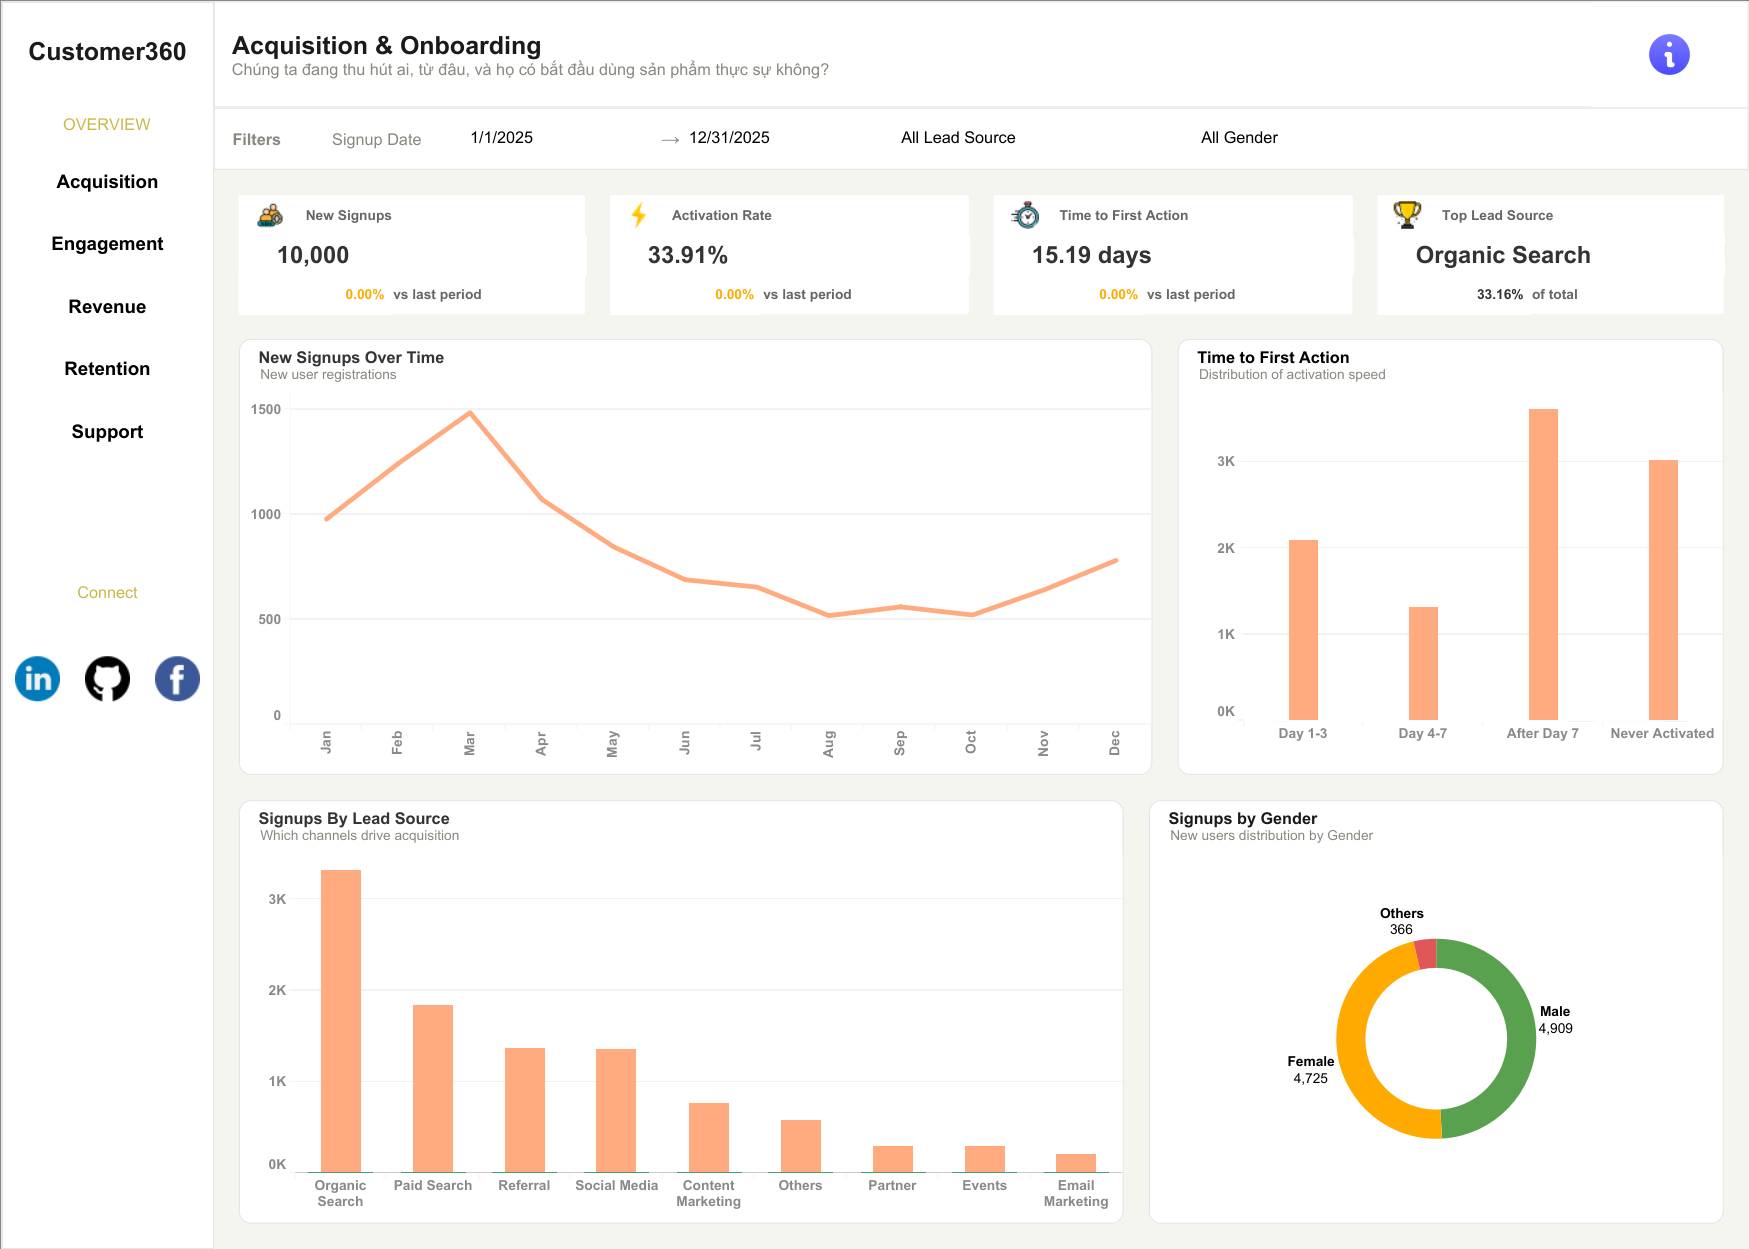

The page's visual inventory and layout, read from the dashboard file:
{"tool":"tableau","page":{"name":"DB acquisition","canvas":[1400,1000],"ordinal":0},"visuals":[{"type":"text","box":[2,2,168,77]},{"type":"text","box":[172,2,1101,83]},{"type":"worksheet","title":"acquisition info","mark":"Shape","box":[1273,2,125,83]},{"type":"text","box":[2,79,168,41]},{"type":"text","box":[172,87,67,48]},{"type":"text","box":[239,87,125,48]},{"type":"parameter","param":"[Parameters].[Parameter 1]","box":[374,97,150,28]},{"type":"text","box":[524,97,25,28]},{"type":"parameter","param":"[Parameters].[Start Date (copy)_0611647334416384]","box":[549,97,150,28]},{"type":"parameter","param":"[Parameters].[Parameter 5]","box":[699,97,240.1,28]},{"type":"parameter","param":"[Parameters].[Parameter 4]","box":[939.1,97,240.1,28]},{"type":"dashboard-object","box":[2,120,168,50]},{"type":"image","param":"Image/new_signups.png","box":[191,156,51,32]},{"type":"text","box":[242,156,226,32]},{"type":"image","param":"Image/activation_rate.png","box":[488,156,47,32]},{"type":"text","box":[535,156,240,32]},{"type":"image","param":"Image/time_to_first_action.png","box":[795,156,50,32]},{"type":"text","box":[845,156,237,32]},{"type":"image","param":"Image/top_lead_source.png","box":[1102,156,49,32]},{"type":"text","box":[1151,156,228,32]},{"type":"dashboard-object","box":[2,170,168,50]},{"type":"worksheet","title":"p1 kpi new signups","mark":"Automatic","box":[191,188,277,32]},{"type":"worksheet","title":"p1 kpi activation rate","mark":"Automatic","box":[488,188,287,32]},{"type":"worksheet","title":"p1 kpi time to action","mark":"Automatic","box":[795,188,287,32]},{"type":"worksheet","title":"p1 kpi top lead source","mark":"Automatic","box":[1102,188,277,32]},{"type":"dashboard-object","box":[2,220,168,50]},{"type":"worksheet","title":"p1 kpi signups change","mark":"Automatic","box":[191,220,121,31]},{"type":"text","box":[312,220,156,31]},{"type":"worksheet","title":"p1 kpi activation rate change","mark":"Automatic","box":[488,220,120,31]},{"type":"text","box":[608,220,167,31]},{"type":"worksheet","title":"p1 kpi time to action change","mark":"Automatic","box":[795,220,120,31]},{"type":"text","box":[915,220,167,31]},{"type":"worksheet","title":"p1 kpi % of total","mark":"Automatic","box":[1102,220,121,31]},{"type":"text","box":[1223,220,156,31]},{"type":"worksheet","title":"p1 chart signups over time","mark":"Line","rows":["sum_new_signups"],"cols":["signup_date"],"box":[171,261,761,369]},{"type":"worksheet","title":"p1 chart time to action","mark":"Bar","rows":["Calculation_0289217080172544","Calculation_0198789216321543"],"cols":["activated_bucket"],"box":[932,261,467,369]},{"type":"dashboard-object","box":[2,270,168,50]},{"type":"dashboard-object","box":[2,320,168,50]},{"type":"blank","box":[2,370,168,63]},{"type":"text","box":[2,433,168,80]},{"type":"image","param":"Image/linkedin.png","box":[2,513,56,60]},{"type":"image","param":"Image/github.png","box":[58,513,56,60]},{"type":"image","param":"Image/facebook.png","box":[114,513,56,60]},{"type":"blank","box":[2,573,168,425]},{"type":"worksheet","title":"p1 chart signups by lead source","mark":"Bar","rows":["Calculation_0289217080172544","Calculation_0198789220786185"],"cols":["lead_source"],"box":[171,630,738,369]},{"type":"worksheet","title":"p1 chart signups by gender","mark":"Pie","rows":["Calculation_0577020310118404","Calculation_0577020310130694"],"box":[909,630,490,369]}]}

Visuals, with their boxes in screenshot pixels (x1, y1, x2, y2), scaled from the page's 1400x1000 canvas onto the 1749x1249 screenshot:
text: bbox=[2, 2, 212, 99]
text: bbox=[215, 2, 1590, 106]
"acquisition info" worksheet (Shape marks): bbox=[1590, 2, 1747, 106]
text: bbox=[2, 99, 212, 150]
text: bbox=[215, 109, 299, 169]
text: bbox=[299, 109, 455, 169]
parameter: bbox=[467, 121, 655, 156]
text: bbox=[655, 121, 686, 156]
parameter: bbox=[686, 121, 873, 156]
parameter: bbox=[873, 121, 1173, 156]
parameter: bbox=[1173, 121, 1473, 156]
dashboard-object: bbox=[2, 150, 212, 212]
image: bbox=[239, 195, 302, 235]
text: bbox=[302, 195, 585, 235]
image: bbox=[610, 195, 668, 235]
text: bbox=[668, 195, 968, 235]
image: bbox=[993, 195, 1056, 235]
text: bbox=[1056, 195, 1352, 235]
image: bbox=[1377, 195, 1438, 235]
text: bbox=[1438, 195, 1723, 235]
dashboard-object: bbox=[2, 212, 212, 275]
"p1 kpi new signups" worksheet: bbox=[239, 235, 585, 275]
"p1 kpi activation rate" worksheet: bbox=[610, 235, 968, 275]
"p1 kpi time to action" worksheet: bbox=[993, 235, 1352, 275]
"p1 kpi top lead source" worksheet: bbox=[1377, 235, 1723, 275]
dashboard-object: bbox=[2, 275, 212, 337]
"p1 kpi signups change" worksheet: bbox=[239, 275, 390, 313]
text: bbox=[390, 275, 585, 313]
"p1 kpi activation rate change" worksheet: bbox=[610, 275, 760, 313]
text: bbox=[760, 275, 968, 313]
"p1 kpi time to action change" worksheet: bbox=[993, 275, 1143, 313]
text: bbox=[1143, 275, 1352, 313]
"p1 kpi % of total" worksheet: bbox=[1377, 275, 1528, 313]
text: bbox=[1528, 275, 1723, 313]
"p1 chart signups over time" worksheet (Line marks): bbox=[214, 326, 1164, 787]
"p1 chart time to action" worksheet (Bar marks): bbox=[1164, 326, 1748, 787]
dashboard-object: bbox=[2, 337, 212, 400]
dashboard-object: bbox=[2, 400, 212, 462]
blank: bbox=[2, 462, 212, 541]
text: bbox=[2, 541, 212, 641]
image: bbox=[2, 641, 72, 716]
image: bbox=[72, 641, 142, 716]
image: bbox=[142, 641, 212, 716]
blank: bbox=[2, 716, 212, 1247]
"p1 chart signups by lead source" worksheet (Bar marks): bbox=[214, 787, 1136, 1248]
"p1 chart signups by gender" worksheet (Pie marks): bbox=[1136, 787, 1748, 1248]
